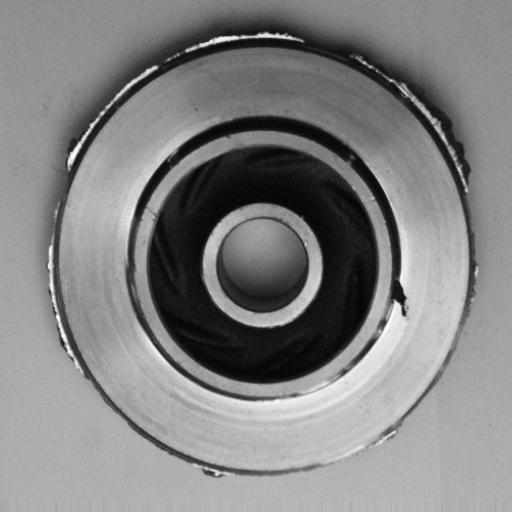casting_with_burr: (44, 28, 481, 484)
crack: (384, 269, 418, 334)
scratch: (282, 372, 359, 405)
